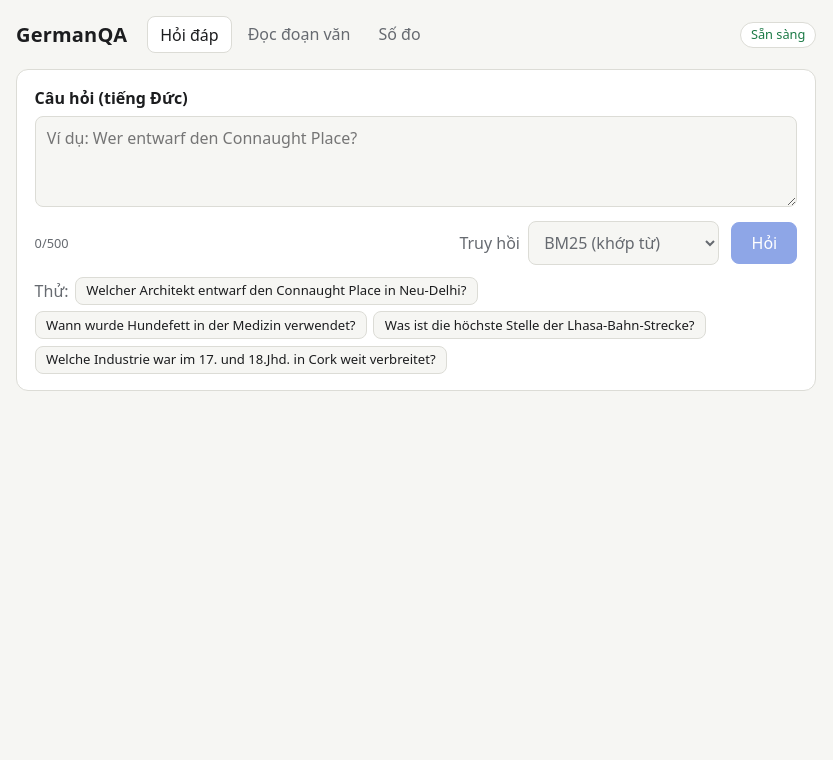
Test: bộ chọn truy hồi và trạng thái sẵn sàng › gửi đúng retriever đã chọn
Select "Dense (khớp nghĩa)" in the dropdown: (624, 243) [528,221,719,265]
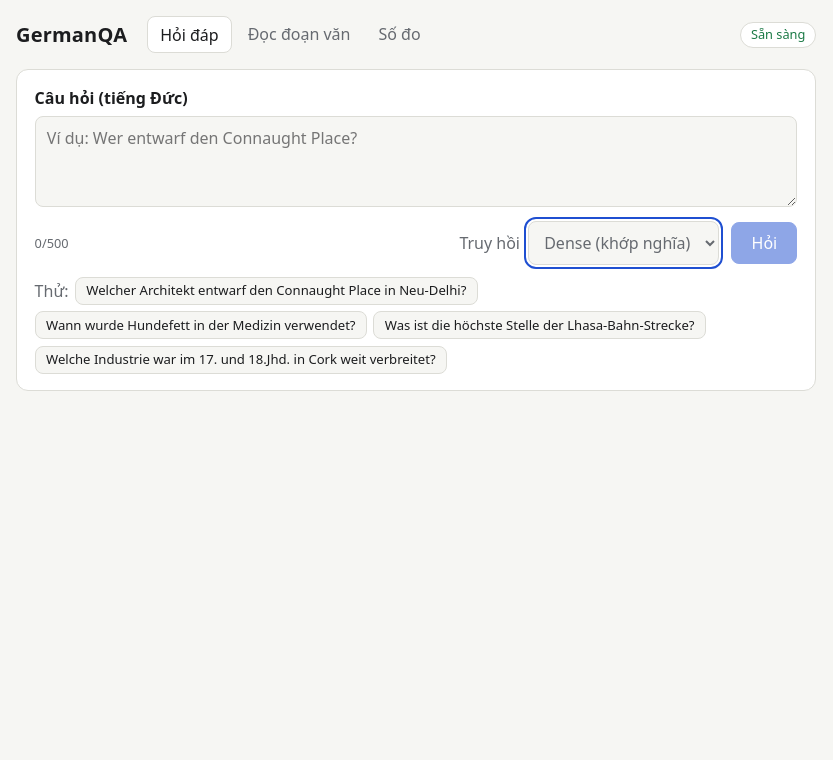
In the text box labelled "Câu hỏi (tiếng Đức)": (416, 162) [35,116,797,207], type "Frage"
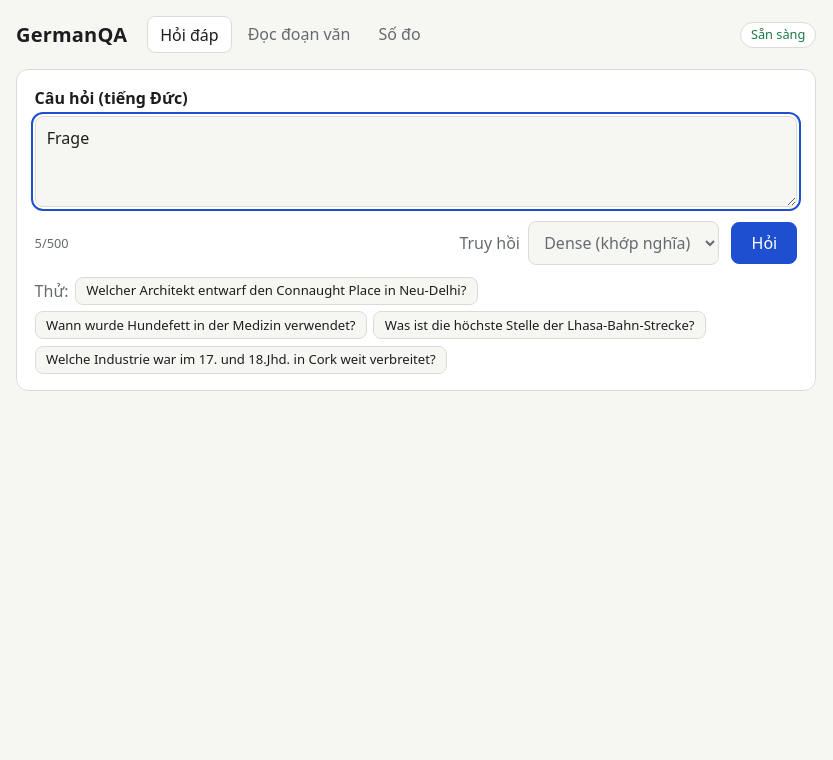
Click the button "Hỏi": (764, 243) [731,222,797,264]
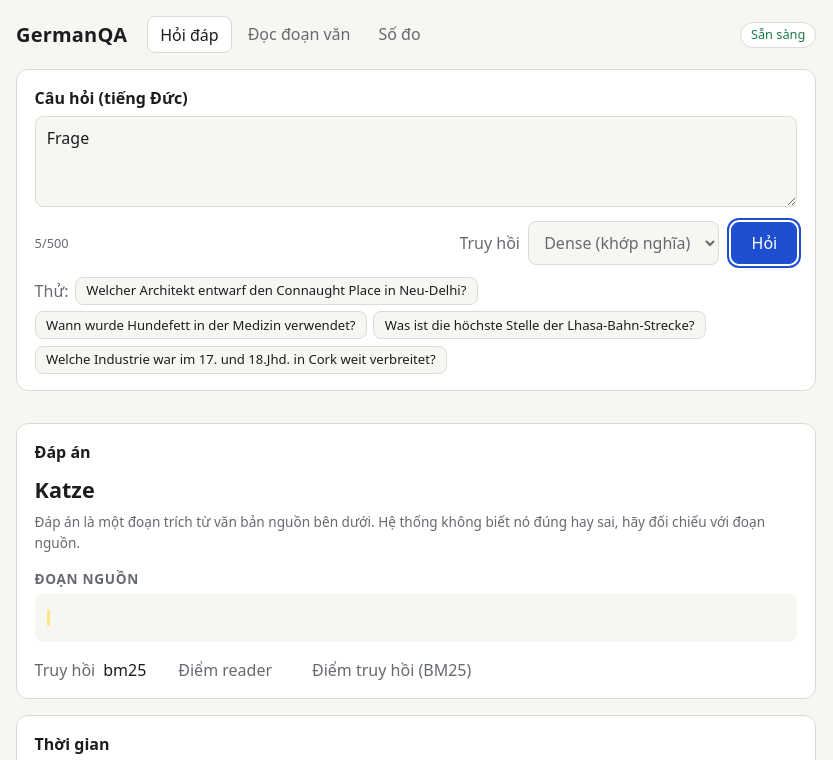
Result: the element with test id "answer-mark" is shown at [47,609,50,626]
